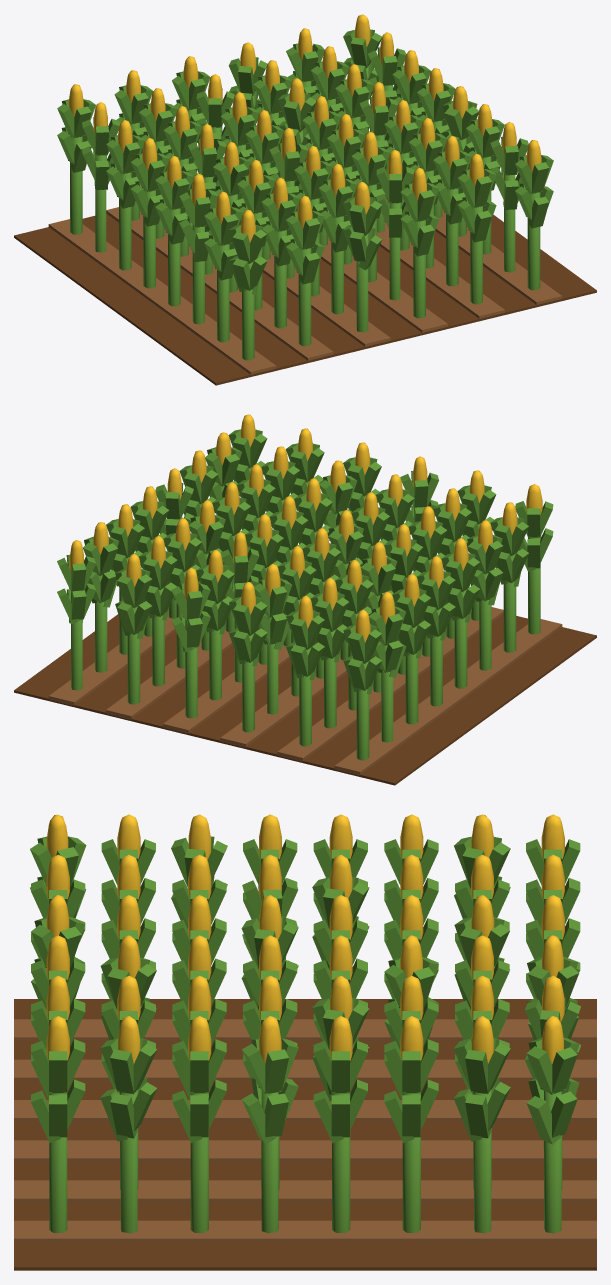
Rendered from Farm_corn.fbx.
3 renders of one model, top to bottom at view 1: azimuth 30°, elevation 25°; view 2: azimuth 150°, elevation 25°; view 3: azimuth 270°, elevation 25°, orthographic. The views are drawn at different scales.
Parts seen in each view (by area): view 1: Farm_corn; view 2: Farm_corn; view 3: Farm_corn.
Part boxes in pixels (<box>): Farm_corn: <box>14,14,596,385</box>; Farm_corn: <box>14,414,596,785</box>; Farm_corn: <box>14,814,596,1270</box>.
Size of the model in its own units: 2600 by 2388 by 999.
